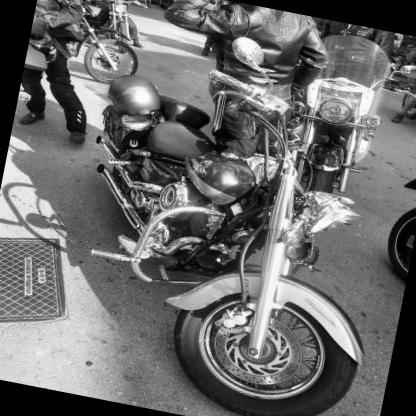moto: (42, 39, 416, 416)
